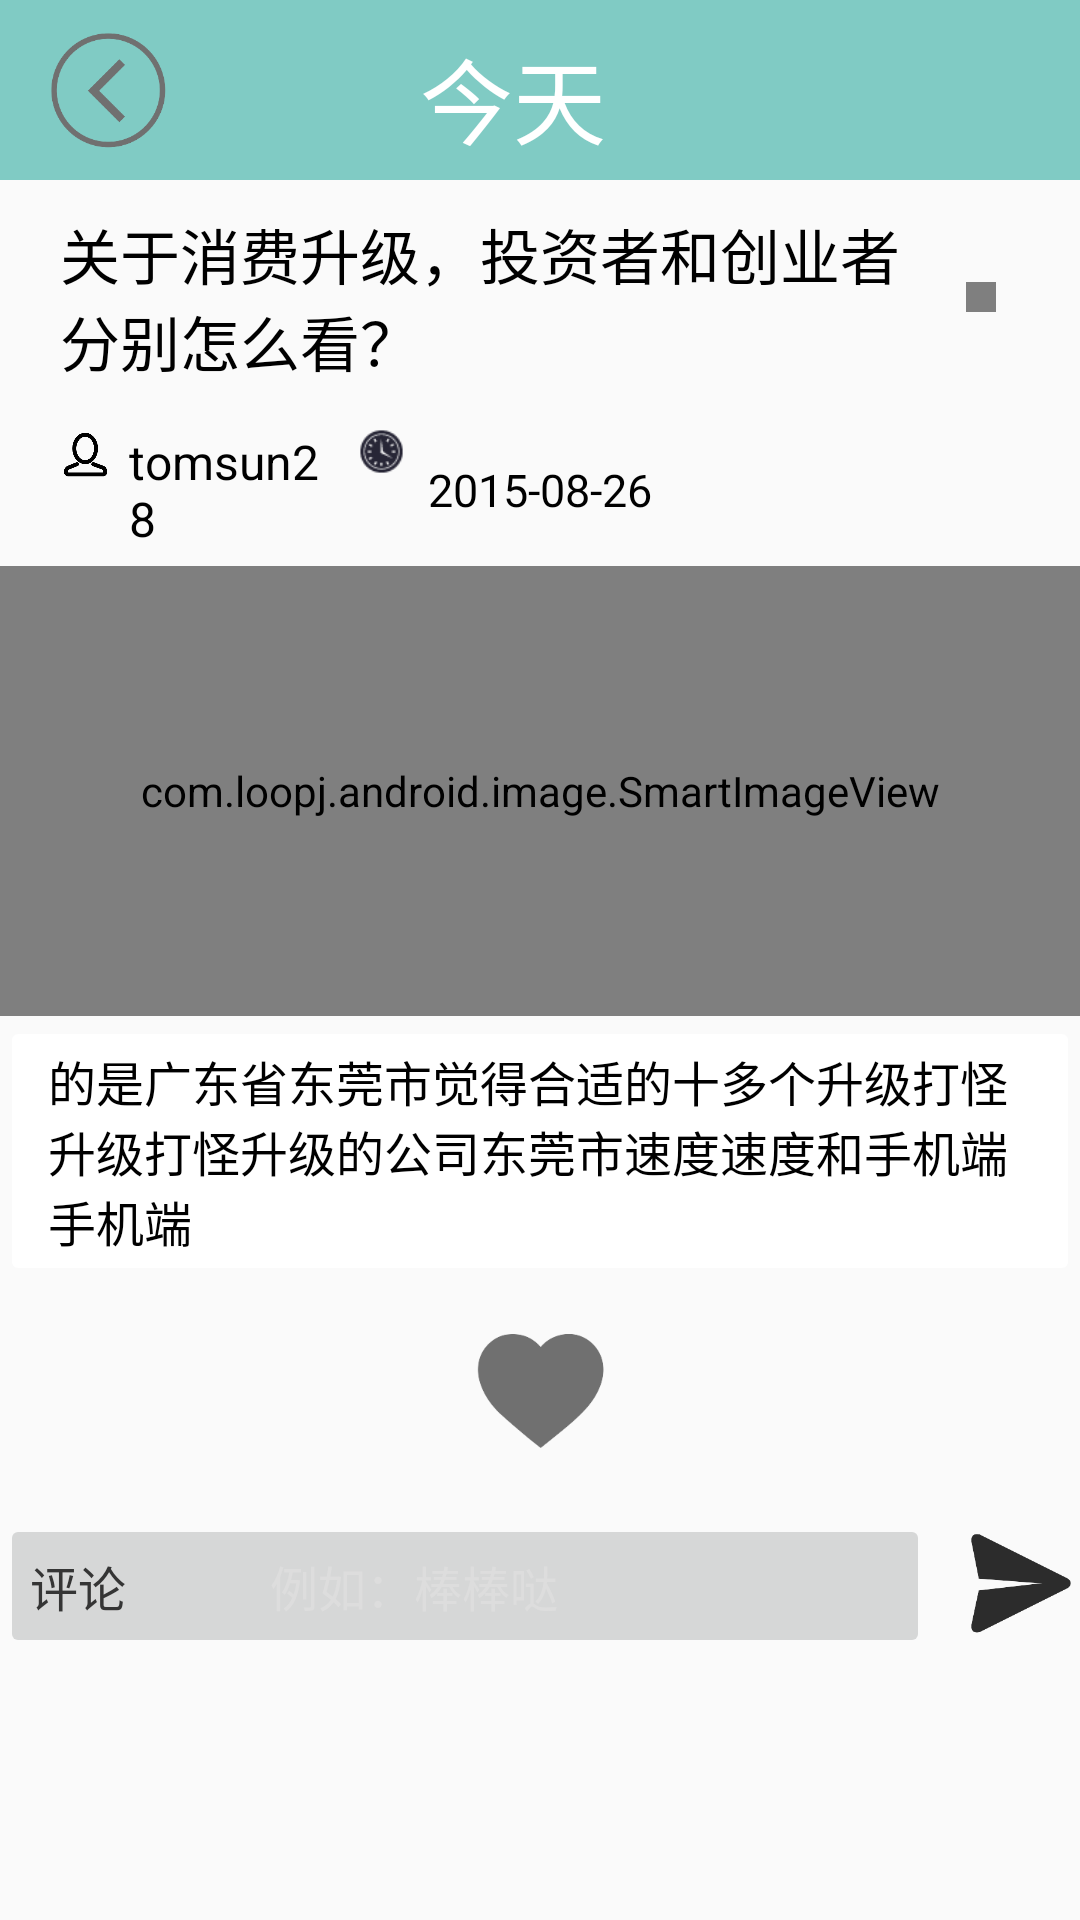

Screen size 1080px x 1920px. Icon name, then its box in pixels as box(x1, y1, x2, y2):
author: box(64, 433, 107, 477)
return: box(51, 33, 165, 147)
send: box(971, 1534, 1071, 1633)
time haha: box(360, 430, 403, 473)
zan an: box(478, 1334, 604, 1448)
